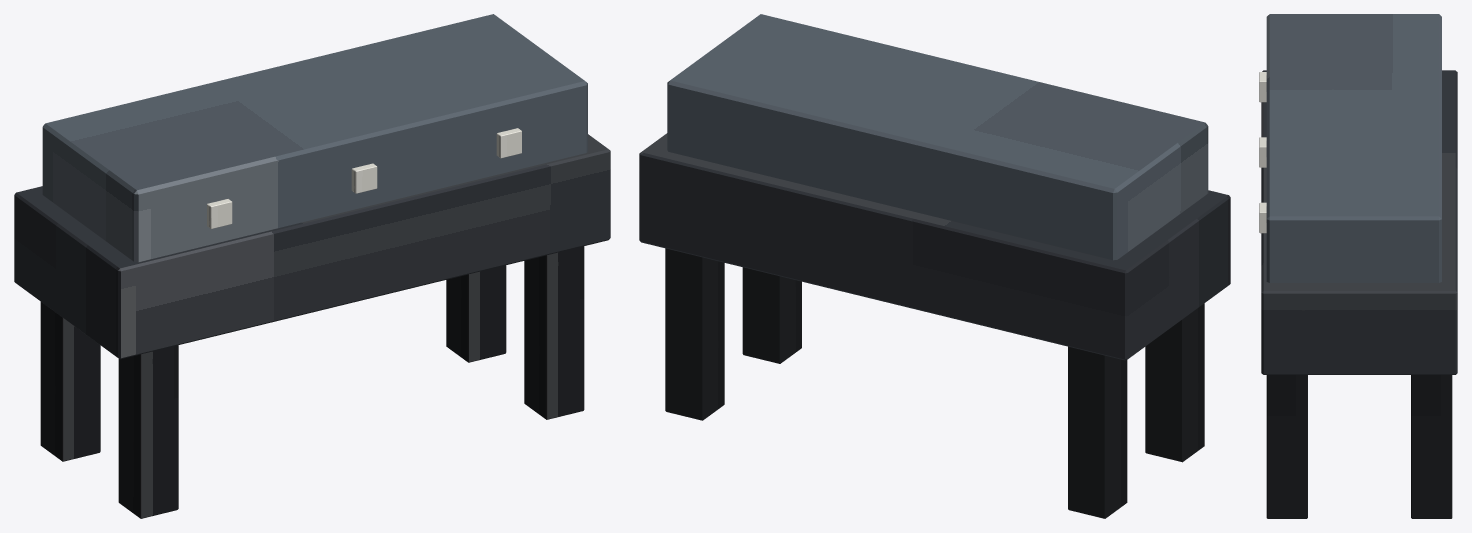
Rendered from bedroom_bench_charcoal.glb.
3 views of the same model, side by side, from view 1: azimuth 30°, elevation 25°; view 2: azimuth 150°, elevation 25°; view 3: azimuth 270°, elevation 25° (orthographic). The views are drawn at different scales.
Visible parts, largest first — view 1: BenchCushion, BenchFrame, BenchLeg_R_F, BenchLeg_L_F, BenchLeg_L_B, BenchLeg_R_B, BenchTuft_0.0, BenchTuft_0.3, BenchTuft_-0.3; view 2: BenchCushion, BenchFrame, BenchLeg_R_B, BenchLeg_L_B, BenchLeg_L_F, BenchLeg_R_F; view 3: BenchCushion, BenchFrame, BenchLeg_R_B, BenchLeg_R_F, BenchTuft_0.3, BenchTuft_0.0, BenchTuft_-0.3.
Part boxes in pixels (box(x1,y1,x2,y2)): BenchCushion: box(42, 14, 587, 262); BenchFrame: box(14, 134, 610, 359); BenchLeg_R_F: box(524, 246, 584, 419); BenchLeg_L_F: box(118, 345, 178, 518); BenchLeg_L_B: box(40, 302, 100, 461); BenchLeg_R_B: box(446, 265, 506, 362); BenchTuft_0.0: box(351, 163, 377, 193); BenchTuft_0.3: box(496, 128, 521, 158); BenchTuft_-0.3: box(207, 199, 232, 228); BenchCushion: box(667, 14, 1208, 260); BenchFrame: box(639, 133, 1230, 360); BenchLeg_R_B: box(665, 248, 724, 420); BenchLeg_L_B: box(1068, 346, 1127, 518); BenchLeg_L_F: box(1145, 303, 1204, 462); BenchLeg_R_F: box(742, 267, 801, 363); BenchCushion: box(1266, 14, 1441, 282); BenchFrame: box(1261, 70, 1457, 374); BenchLeg_R_B: box(1411, 375, 1452, 518); BenchLeg_R_F: box(1266, 375, 1307, 518); BenchTuft_0.3: box(1259, 202, 1266, 233); BenchTuft_0.0: box(1259, 137, 1266, 167); BenchTuft_-0.3: box(1259, 72, 1266, 102).
Bounding box in the file's own units: 1.02 × 0.65 × 0.384.
Materials: 1 (1 with a texture image).
